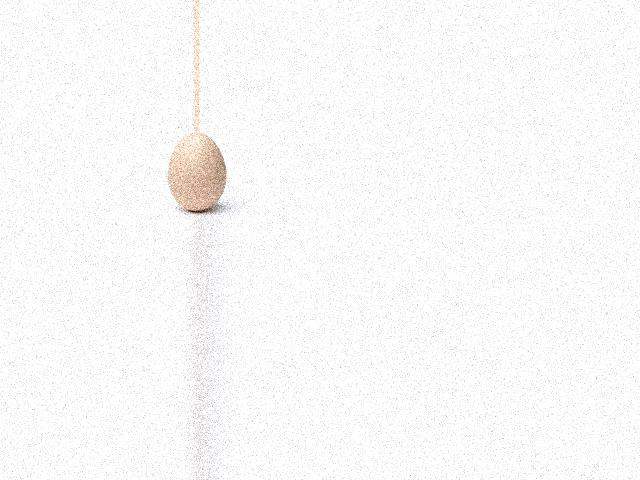egg: (167, 132, 226, 212)
